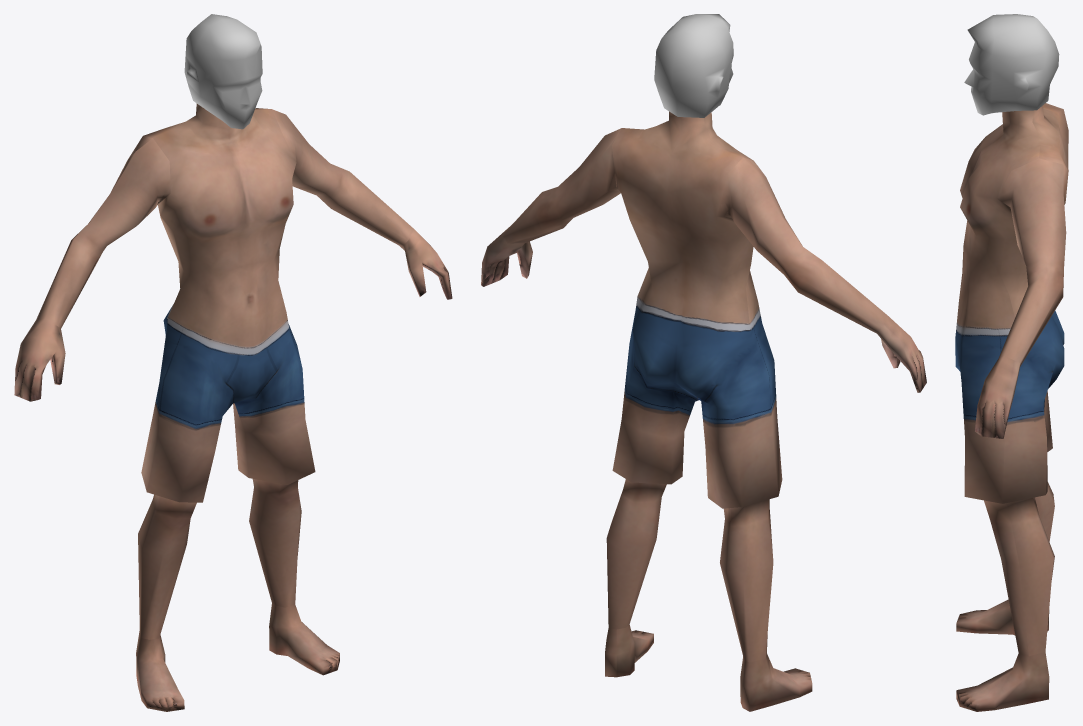
The model's file is male_shorts_base.fbx.
The picture shows the model from 3 angles, left to right: view 1: azimuth 30°, elevation 25°; view 2: azimuth 150°, elevation 25°; view 3: azimuth 270°, elevation 25°; orthographic projection. The views are drawn at different scales.
Visible parts, largest first — view 1: male_body_shorts, male_head_base.001; view 2: male_body_shorts, male_head_base.001; view 3: male_body_shorts, male_head_base.001.
Part boxes in pixels (x1,y1,x2,y2): male_body_shorts: (14, 103, 452, 711); male_head_base.001: (184, 14, 262, 129); male_body_shorts: (481, 111, 926, 711); male_head_base.001: (654, 14, 733, 117); male_body_shorts: (955, 103, 1068, 711); male_head_base.001: (964, 14, 1059, 115).
Bounding box in the file's own units: 127 × 183 × 29.03.
